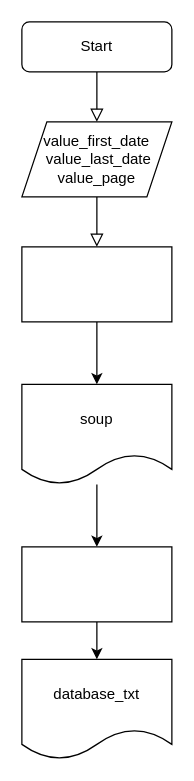
Some shapes in this 194 by 781 pixel diagram are drawn without their labels. Here are the shapes that lost their labels. From the top down, the box of each, then its label:
(21, 246, 172, 322): content_soup()
(21, 546, 172, 622): create_file()
